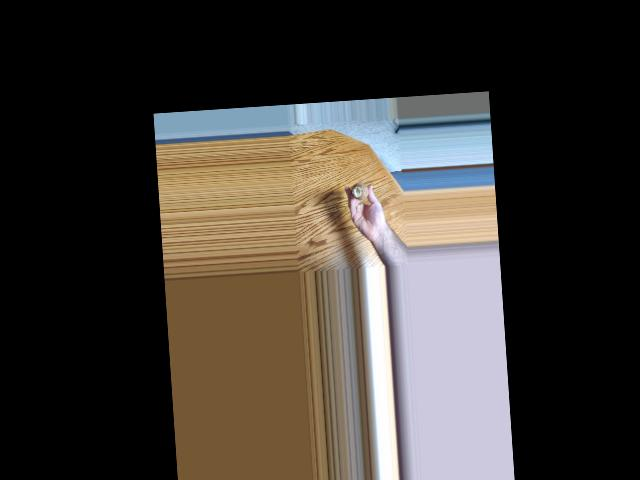sweet_potato: (351, 181, 371, 198)
